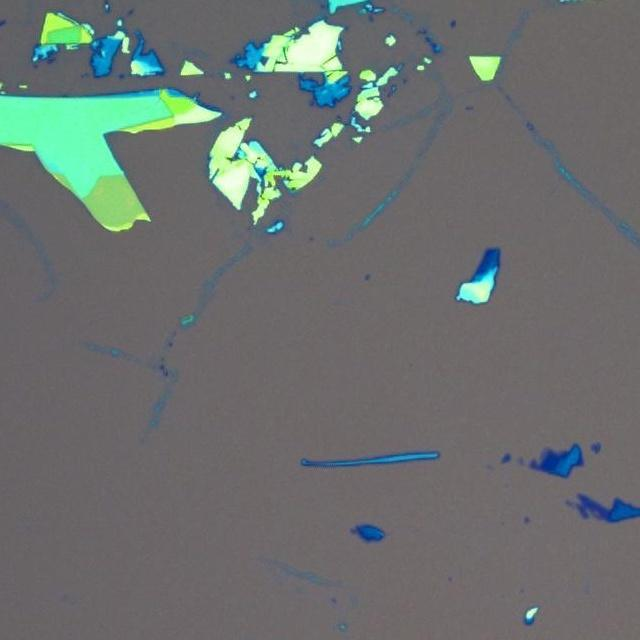monolayer-eWW4: (540, 448, 548, 460), (517, 456, 524, 465)
